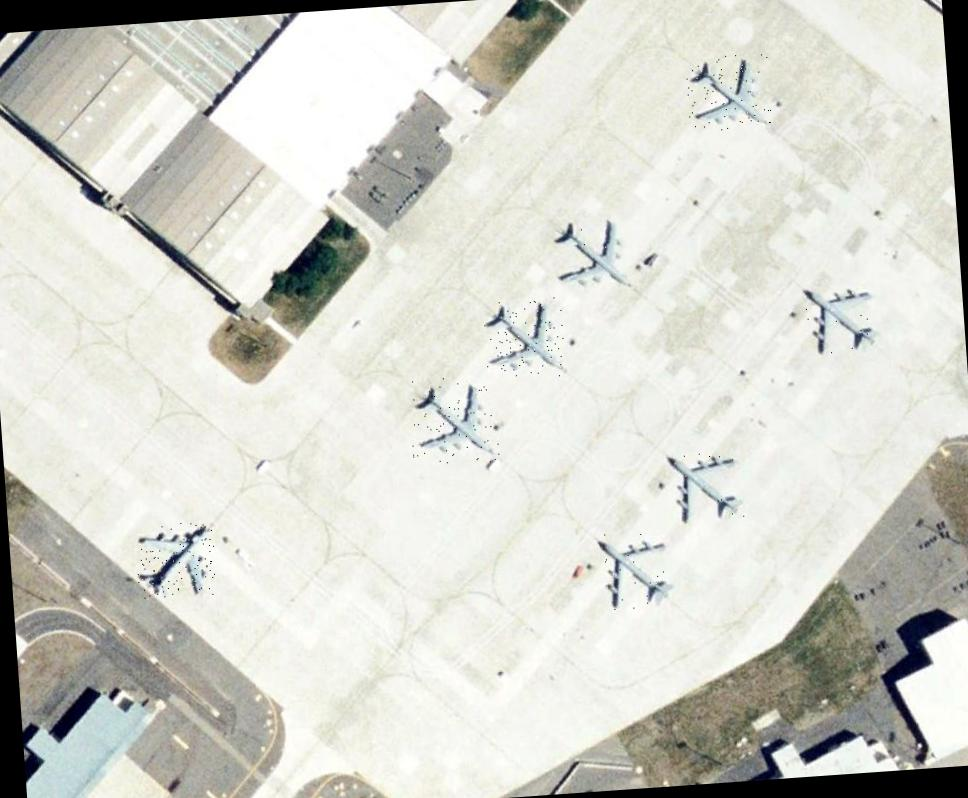A14: (406, 374, 502, 469), (481, 296, 566, 380), (685, 52, 772, 132), (134, 520, 217, 600), (595, 530, 677, 610), (552, 214, 632, 296), (800, 280, 883, 358), (665, 448, 745, 526)
